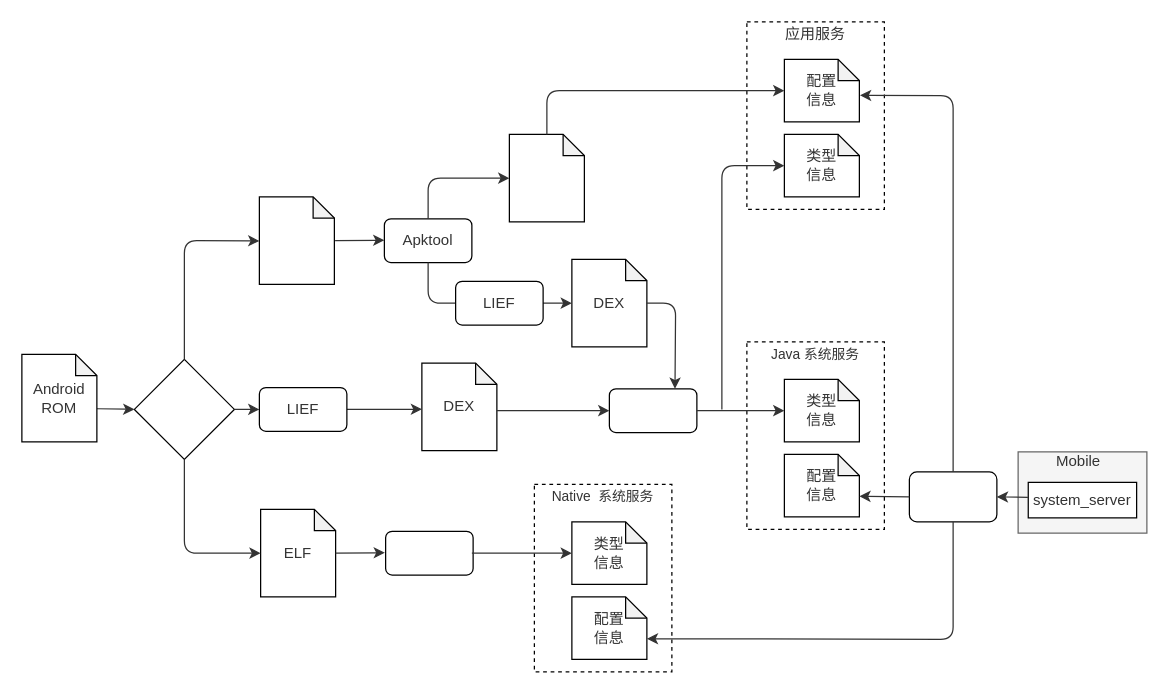
Some shapes in this 1169 by 694 pixel diagram are drawn without their labels. Here are the shapes that lost their labels. From the top down, the centre of each, then its label:
(x=546, y=177): Android- Manifest
(x=296, y=240): APK
(x=183, y=408): 编译产物 提取
(x=652, y=410): 字节码分析
(x=952, y=496): Hook
(x=428, y=552): 汇编分析
